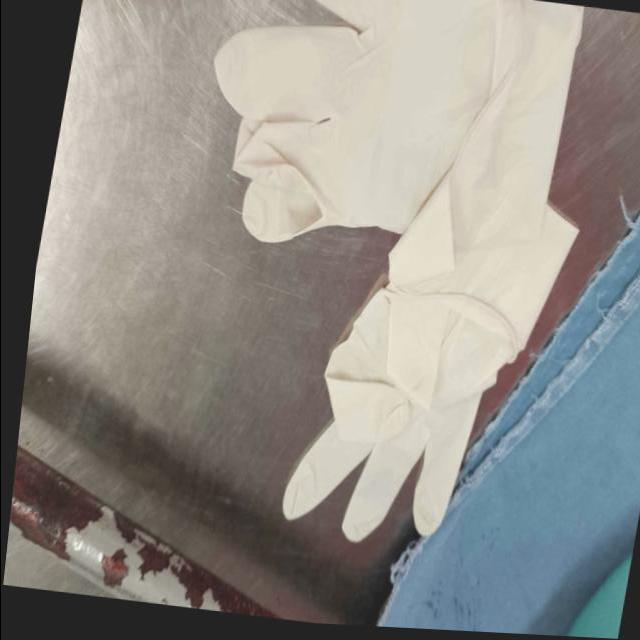General: (1, 1, 640, 638)
Infectious: (213, 1, 587, 544)
